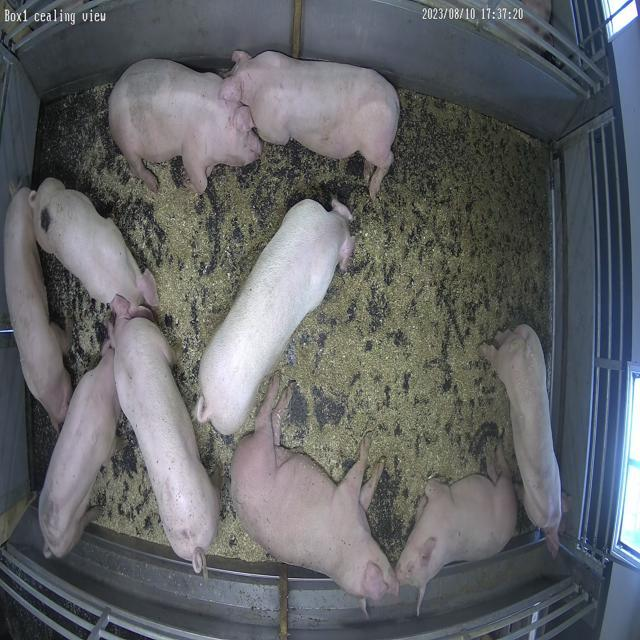Dirt: (64, 90, 551, 560)
Pig: (231, 377, 400, 602), (197, 199, 355, 435), (111, 311, 218, 574), (222, 51, 400, 198), (108, 59, 263, 192), (396, 450, 518, 616), (38, 340, 120, 559), (482, 325, 563, 540), (30, 178, 159, 308), (3, 187, 72, 430)
